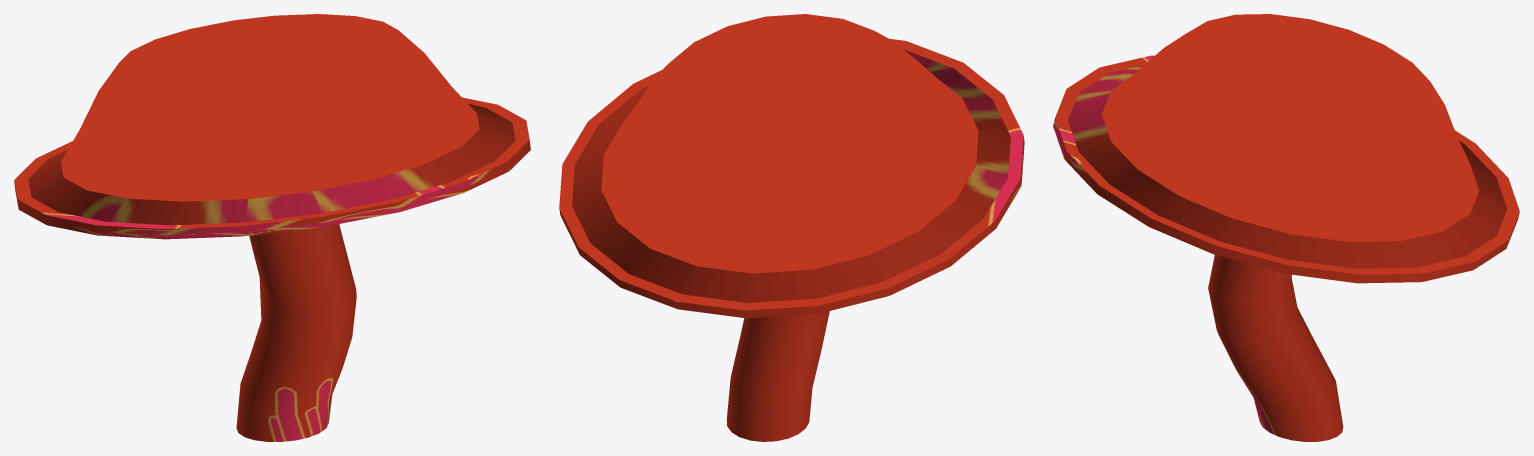
Rendered from shroom_7.dae.
3 renders of one model, left to right at view 1: azimuth 30°, elevation 25°; view 2: azimuth 150°, elevation 25°; view 3: azimuth 270°, elevation 25°, orthographic. The views are drawn at different scales.
Visible parts, largest first — view 1: pCylinder1; view 2: pCylinder1; view 3: pCylinder1.
Boxes of the visible parts, x1,y1,x2,y2 form: pCylinder1: [14, 14, 530, 441]; pCylinder1: [559, 14, 1024, 441]; pCylinder1: [1053, 14, 1519, 441].
Bounding box in the file's own units: 17.32 × 14.94 × 16.98.
